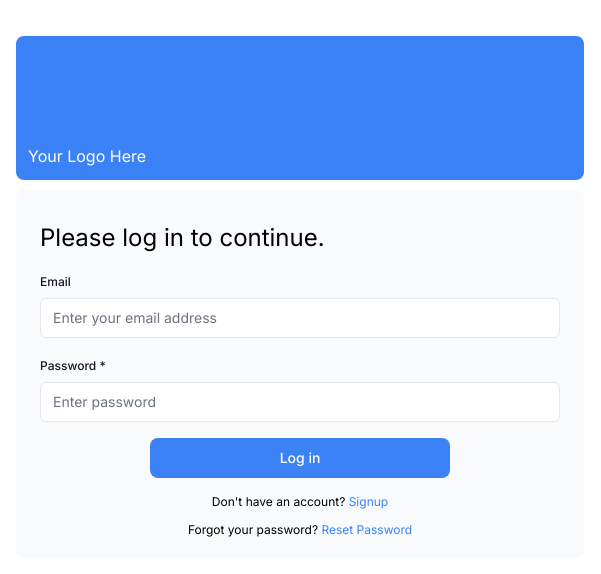
Test: Auth Tests › Login Validation › should show validation errors with empty inputs
Click the button "Log in" at (300, 458), box [150,438,450,478]
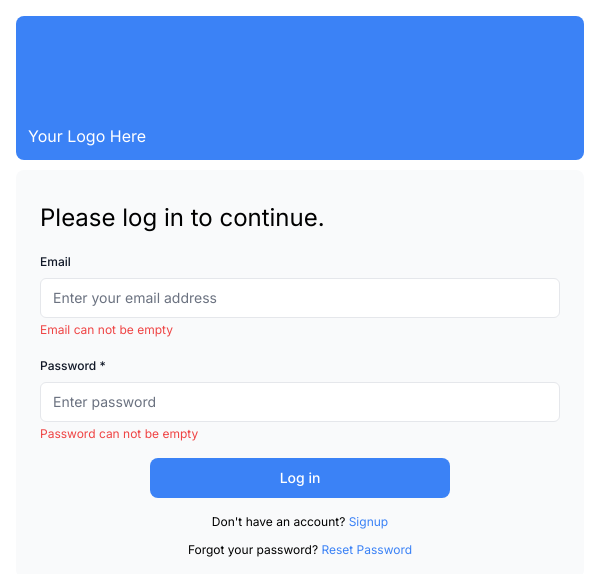
Check: the text "Email can not be empty" is shown, box [40,322,173,337]
Check: the text "Password can not be empty" is shown, box [40,426,198,441]
